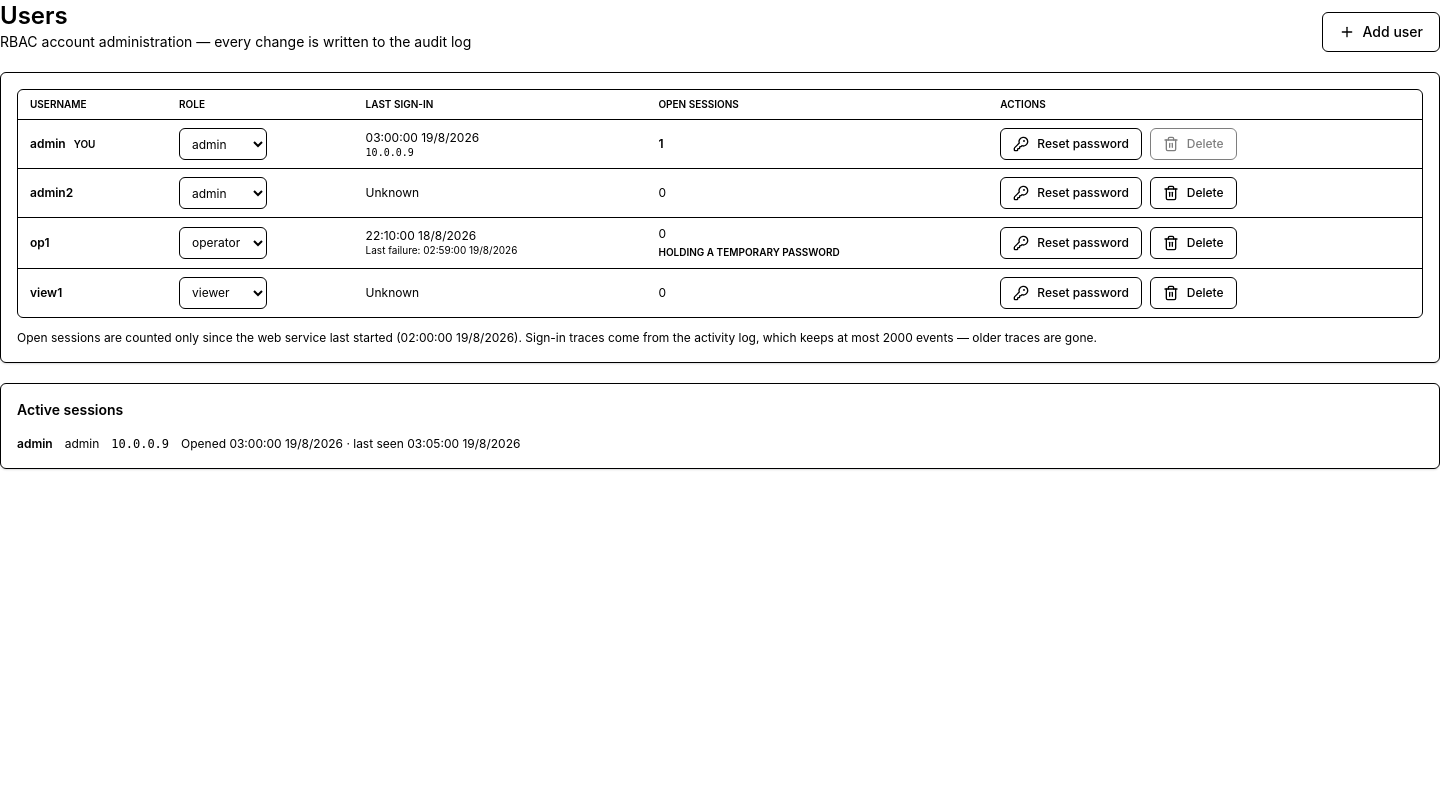
Test: UsersPage create › refuses a password shorter than the minimum instead of sending it
Click the button "Add user" at point(1381, 32), box [1322,12,1439,52]
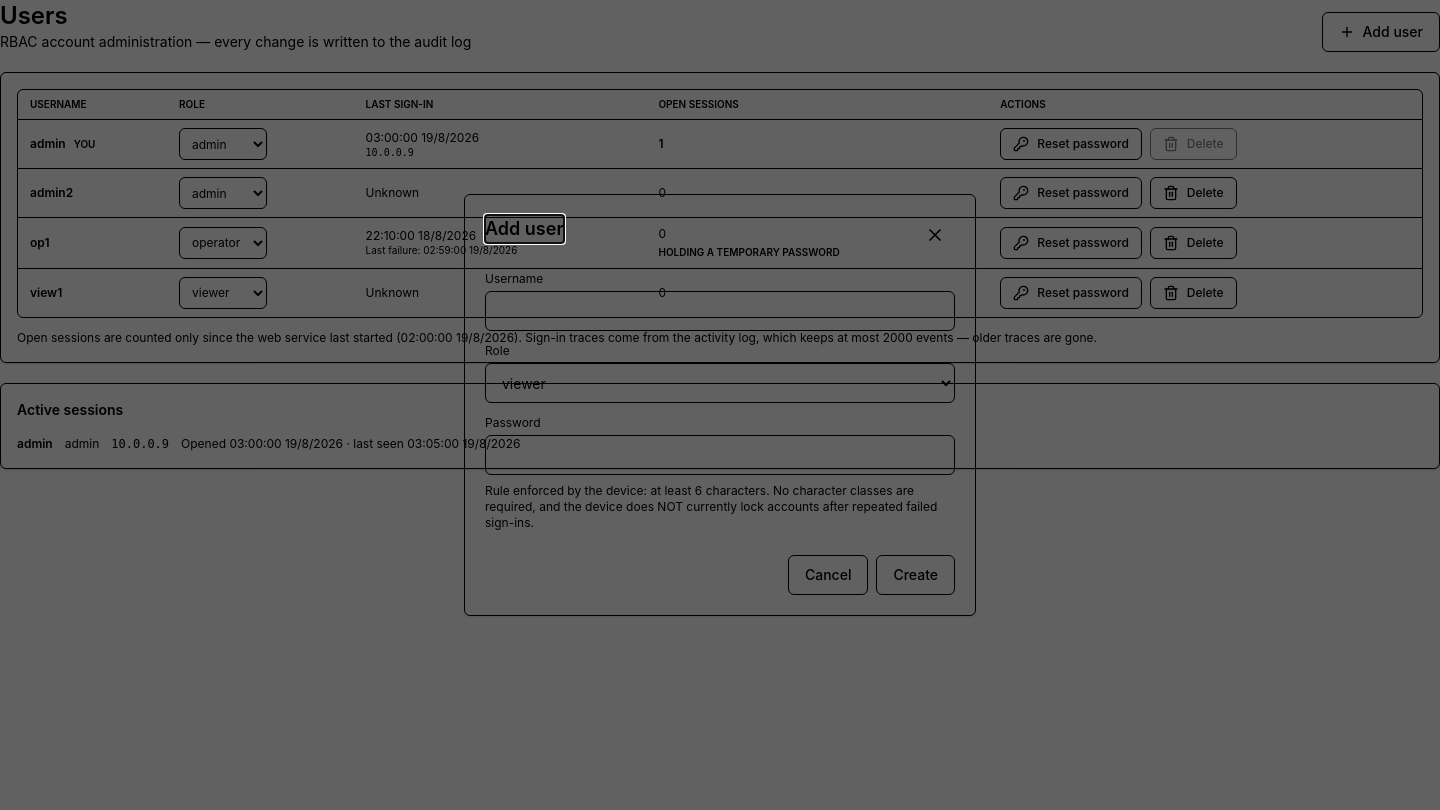
Type "tech1" into the field labelled "Username" at point(720, 311), box [485,291,955,331]
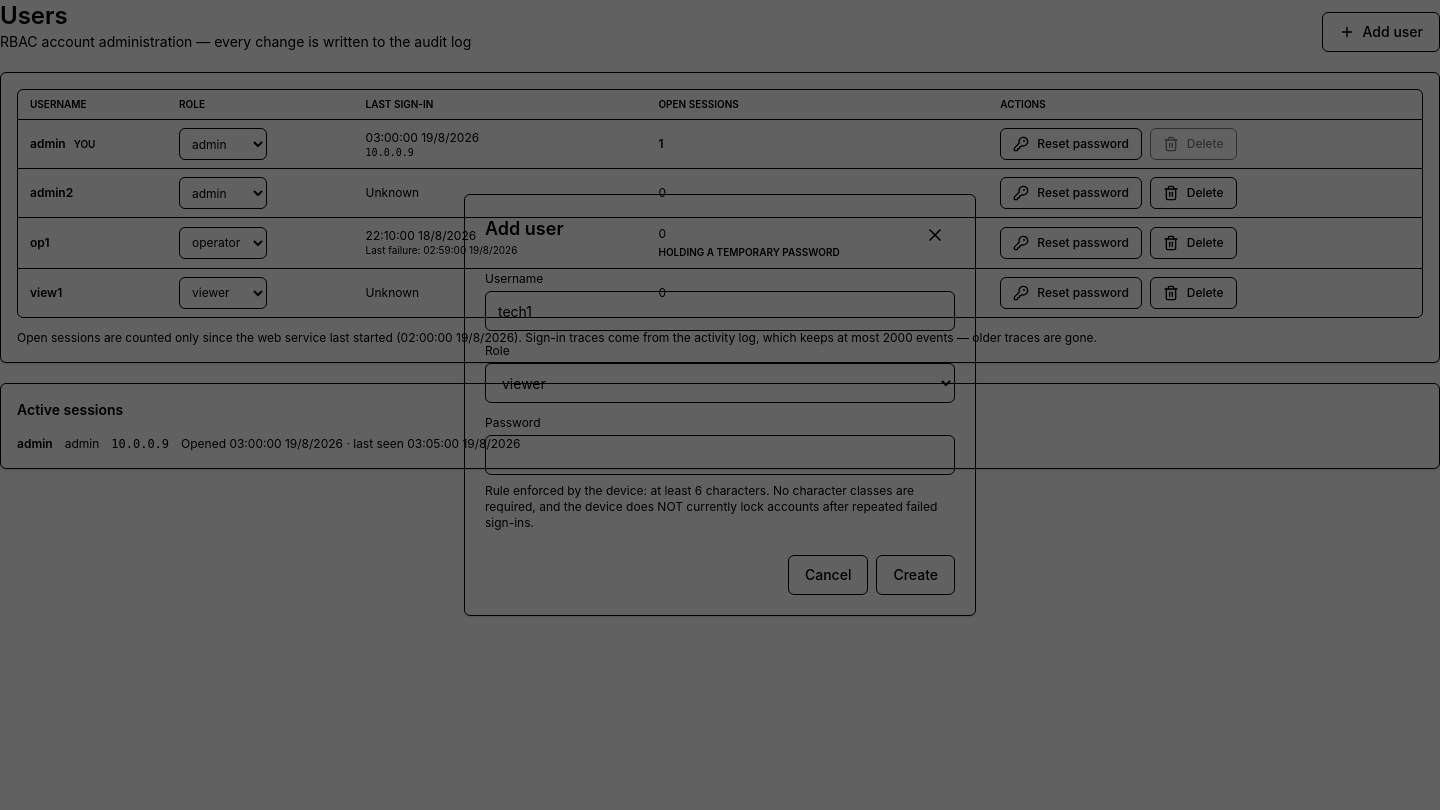
Type "123" into the password field labelled "Password" at point(720, 455), box [485,435,955,475]
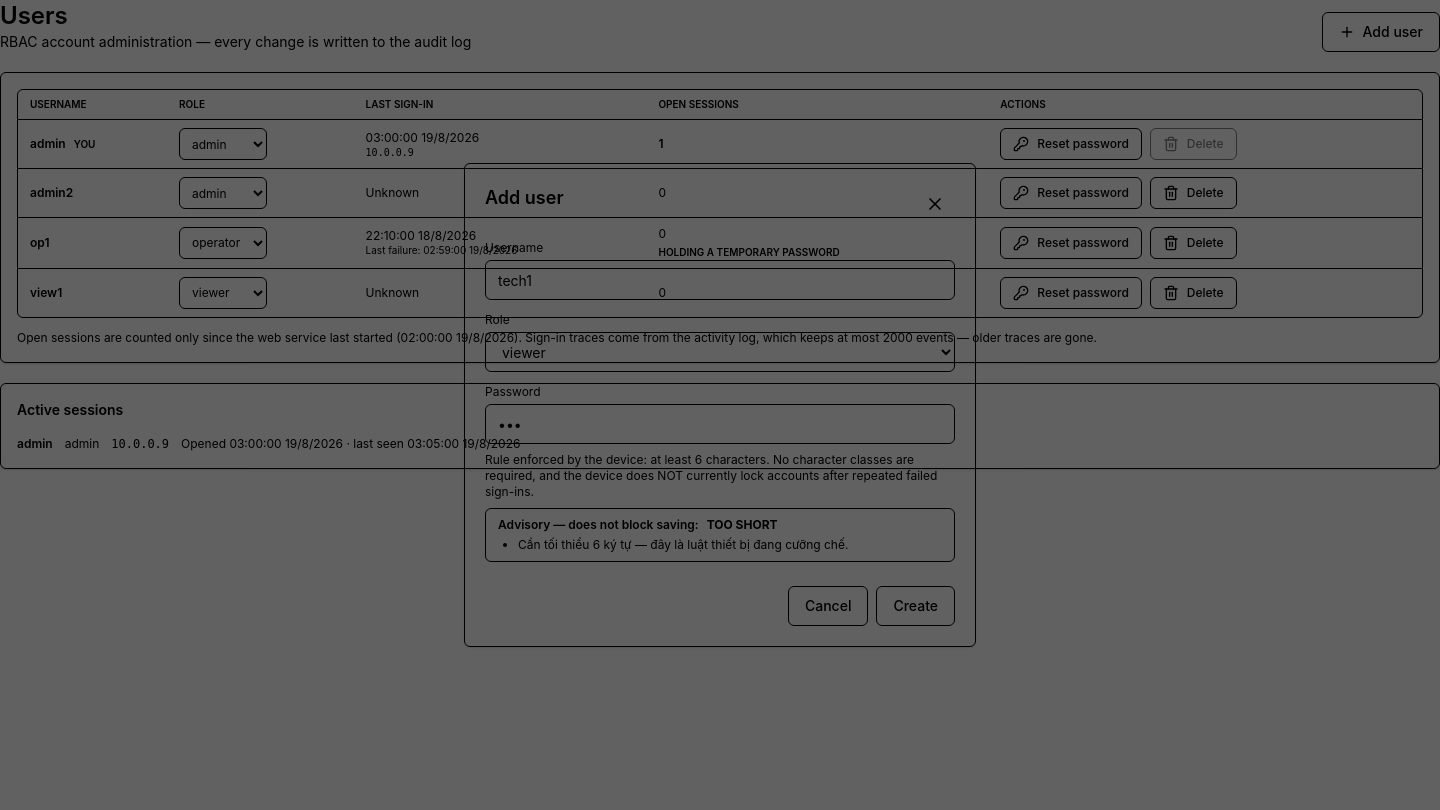
Click the button "Create" at point(916, 606), box [876,586,955,626]
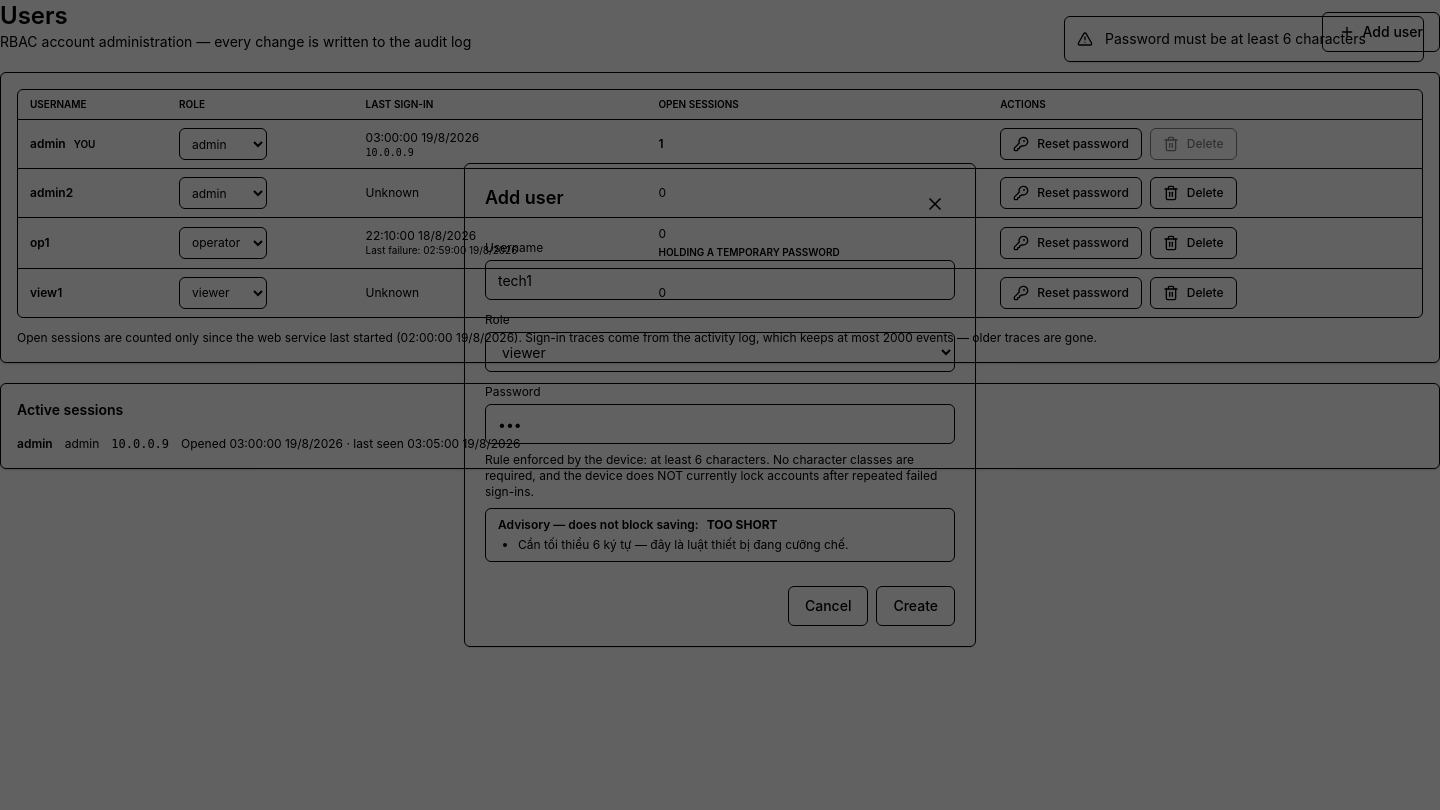
Check: the text "Password must be at least 6 characters" is shown, box [1105,29,1366,49]
